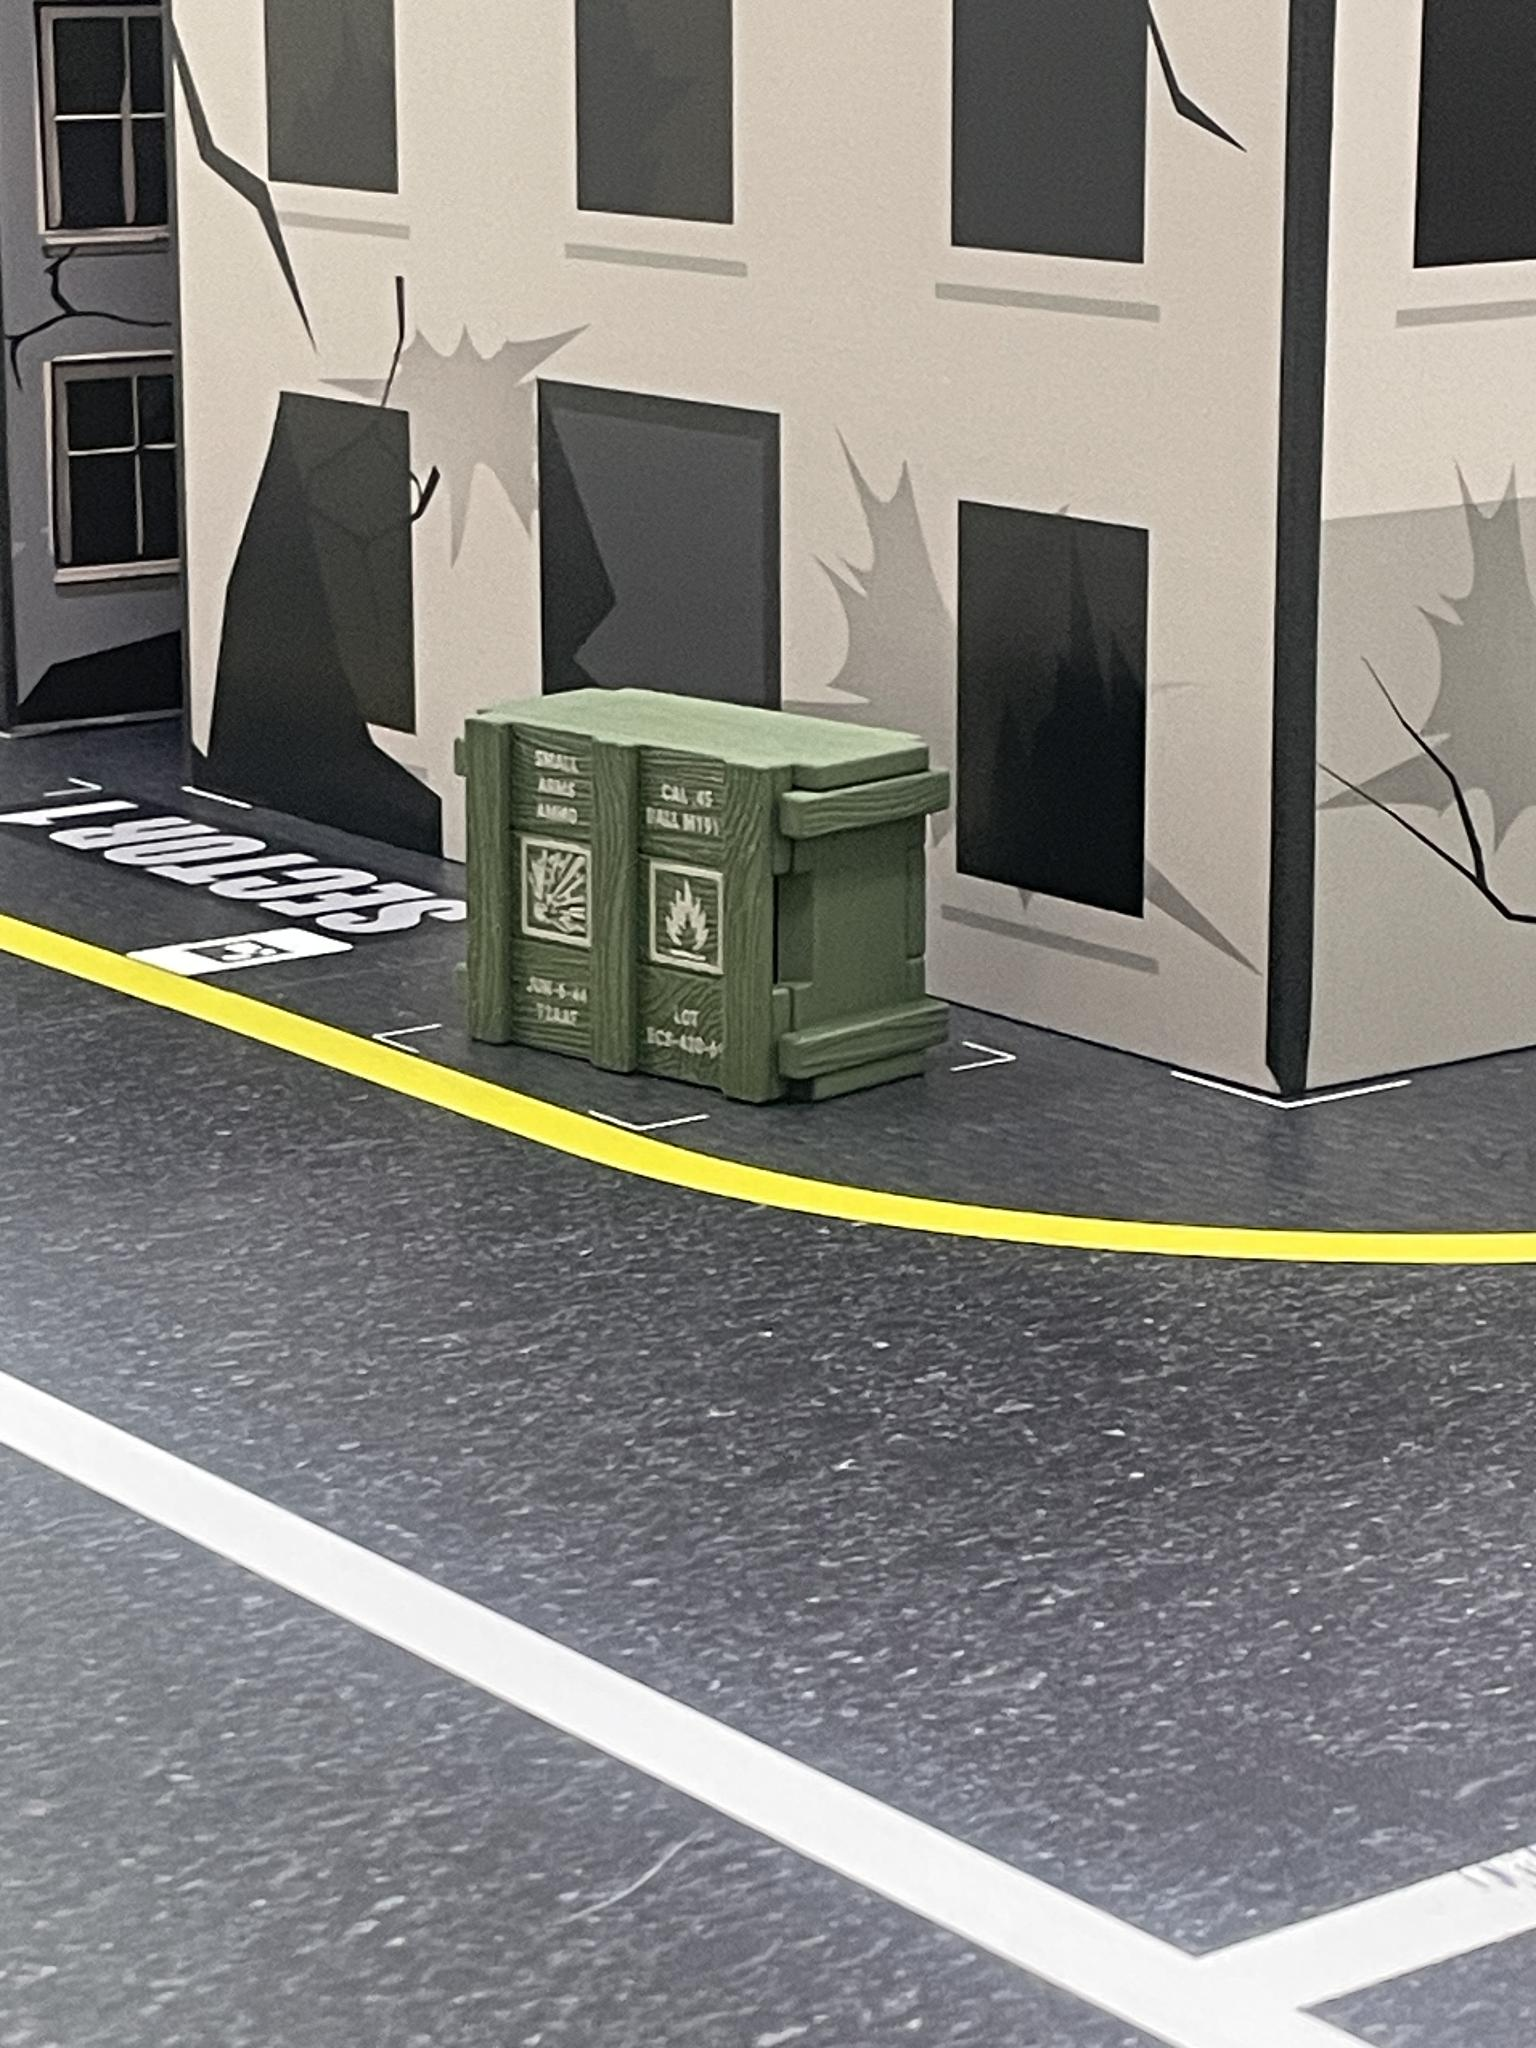Box: (439, 676, 965, 1109)
